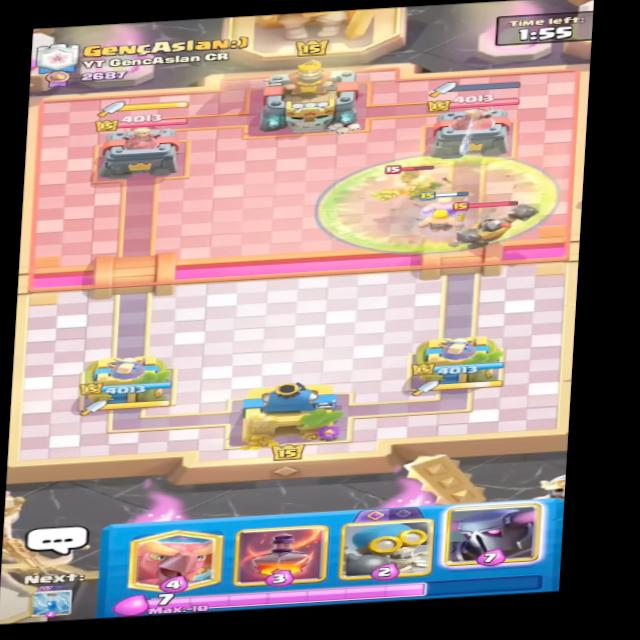Megaknight: (432, 197, 534, 256)
Pheonix: (352, 160, 476, 215)
